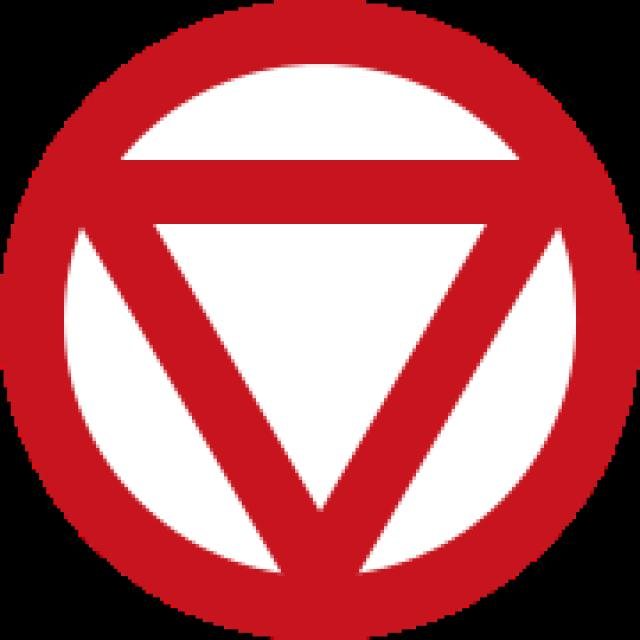Traffic sign: (32, 36, 606, 623)
